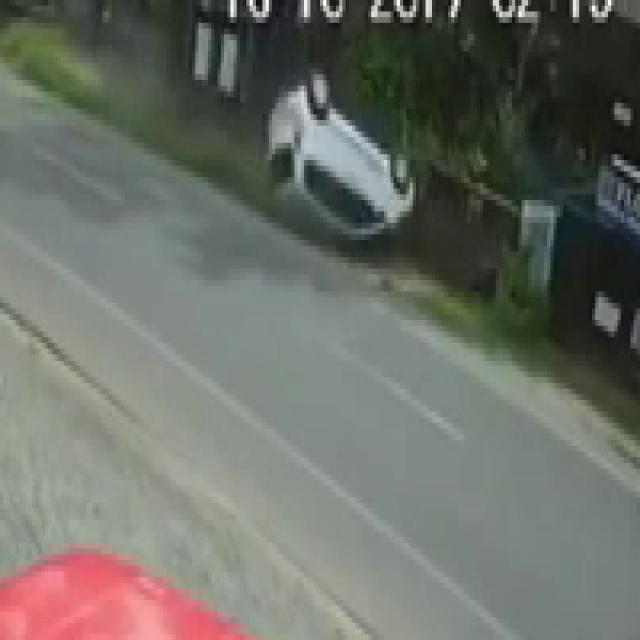accident: (255, 62, 415, 275)
